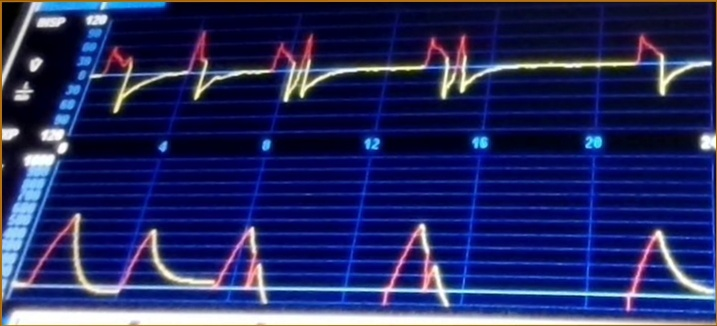Double_Triggering Flow: (99, 26, 697, 125)
Double_Triggering Volume: (27, 202, 699, 310)
